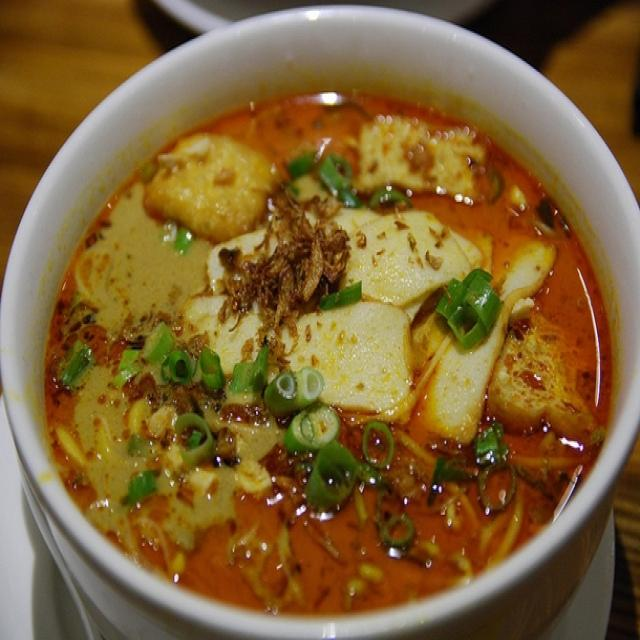面条主食: (23, 20, 627, 607)
